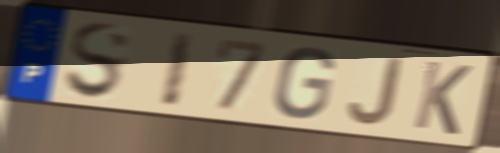7: (212, 36, 267, 114)
G: (270, 45, 338, 122)
I: (157, 28, 199, 110)
J: (345, 55, 406, 128)
K: (410, 57, 475, 139)
S: (62, 20, 133, 104)
